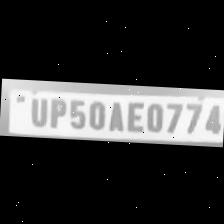0: (144, 98, 166, 132), (84, 96, 107, 128)
4: (200, 100, 222, 132)
5: (64, 96, 86, 128)
7: (180, 100, 202, 132), (162, 98, 182, 132)
A: (105, 97, 125, 130)
E: (122, 97, 144, 131)
P: (46, 93, 66, 127)
U: (25, 93, 48, 125)
